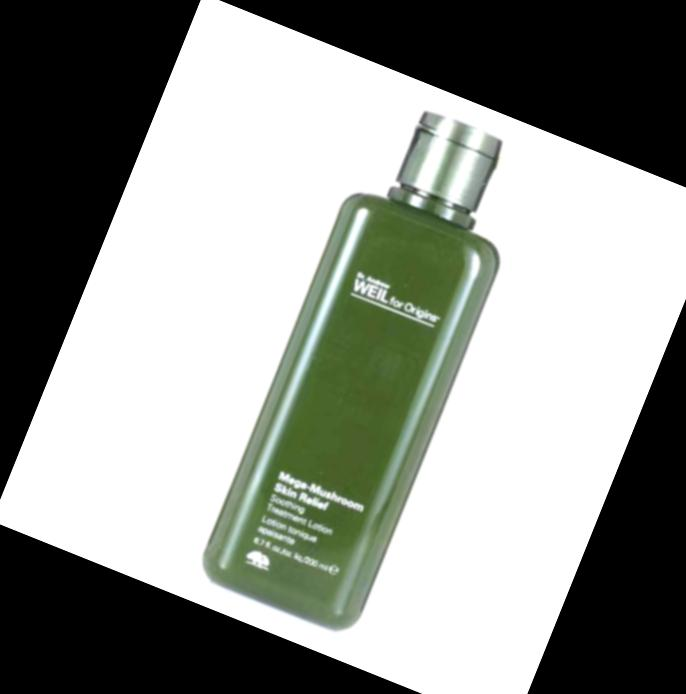cosmetic: (189, 85, 549, 642)
